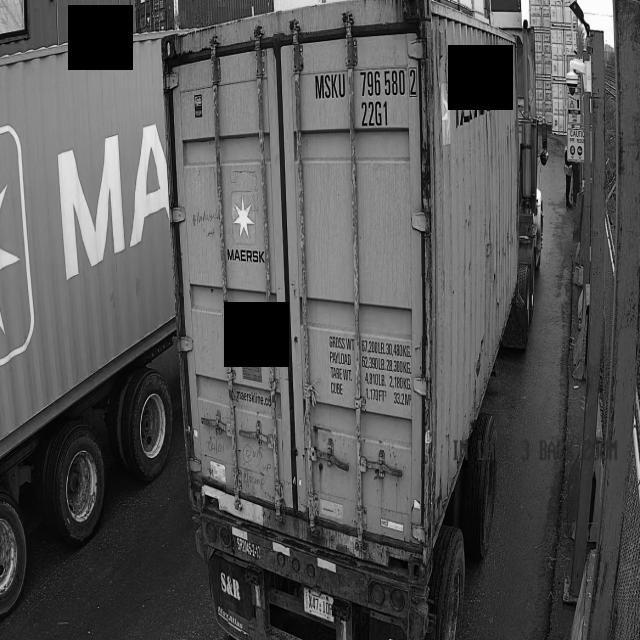container_company_logo: (225, 191, 263, 272)
container_number: (313, 70, 419, 131)
license_plate: (300, 590, 338, 622)
other_container_info: (326, 328, 412, 410)
truck_with_container: (164, 0, 548, 640), (0, 34, 176, 616)
